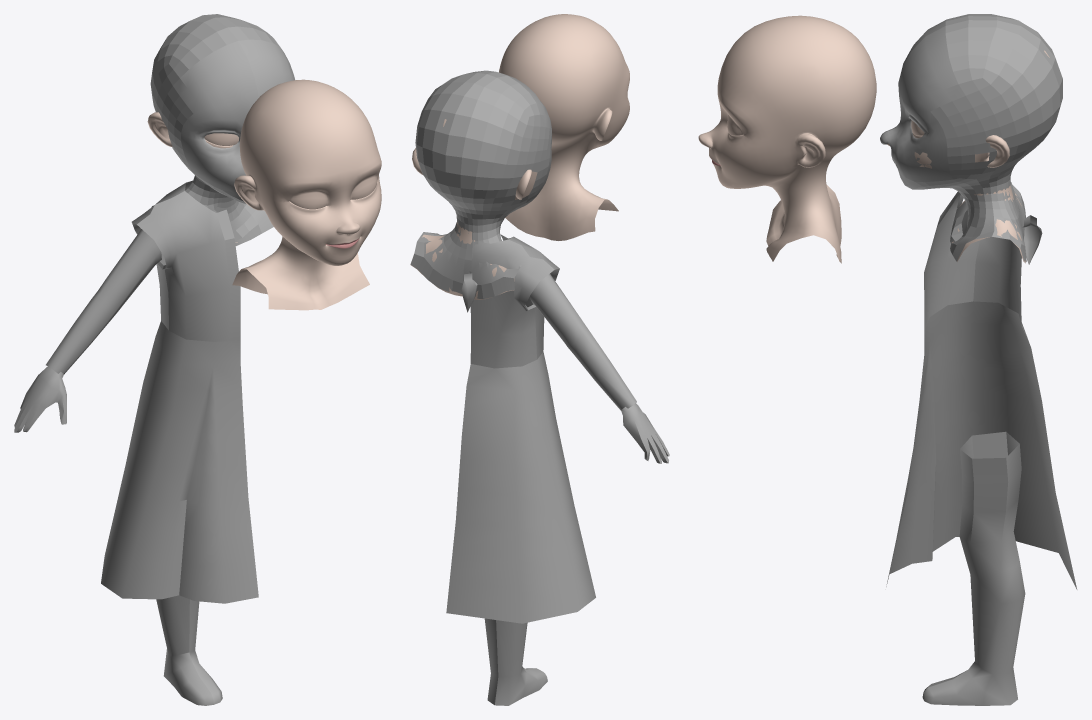
The model's file is LittleGirlXfer.fbx.
The picture shows the model from 3 angles, left to right: view 1: azimuth 30°, elevation 25°; view 2: azimuth 150°, elevation 25°; view 3: azimuth 270°, elevation 25°; orthographic projection. The views are drawn at different scales.
Visible parts, largest first — view 1: polySurface27, Mery_geo_cn_body1, polySurface29, polySurface4, polySurface12, polySurface14, Mery_geo_cn_body; view 2: polySurface27, polySurface29, Mery_geo_cn_body1, polySurface4, polySurface12, Mery_geo_cn_body, polySurface14; view 3: polySurface27, polySurface29, Mery_geo_cn_body1, polySurface12, Mery_geo_cn_body, polySurface5.
Boxes of the visible parts, x1=… form: polySurface27: x1=101, y1=180, x2=258, y2=603; Mery_geo_cn_body1: x1=232, y1=79, x2=381, y2=310; polySurface29: x1=150, y1=14, x2=294, y2=245; polySurface4: x1=46, y1=229, x2=161, y2=374; polySurface12: x1=156, y1=595, x2=222, y2=705; polySurface14: x1=14, y1=366, x2=66, y2=432; Mery_geo_cn_body: x1=147, y1=112, x2=238, y2=242; polySurface27: x1=446, y1=234, x2=595, y2=623; polySurface29: x1=410, y1=70, x2=552, y2=299; Mery_geo_cn_body1: x1=499, y1=14, x2=629, y2=240; polySurface4: x1=529, y1=274, x2=636, y2=410; polySurface12: x1=484, y1=618, x2=547, y2=705; Mery_geo_cn_body: x1=410, y1=119, x2=537, y2=299; polySurface14: x1=621, y1=403, x2=669, y2=463; polySurface27: x1=886, y1=182, x2=1077, y2=589; polySurface29: x1=880, y1=14, x2=1062, y2=261; Mery_geo_cn_body1: x1=698, y1=15, x2=876, y2=263; polySurface12: x1=922, y1=431, x2=1025, y2=705; Mery_geo_cn_body: x1=887, y1=50, x2=1049, y2=263; polySurface5: x1=1023, y1=215, x2=1042, y2=264.
Bounding box in the file's own units: 220 × 513 × 253.
